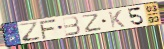5: (127, 6, 145, 26)
B: (61, 15, 82, 37)
F: (38, 18, 58, 40)
K: (108, 9, 127, 29)
Z: (17, 20, 42, 43), (82, 13, 103, 34)
